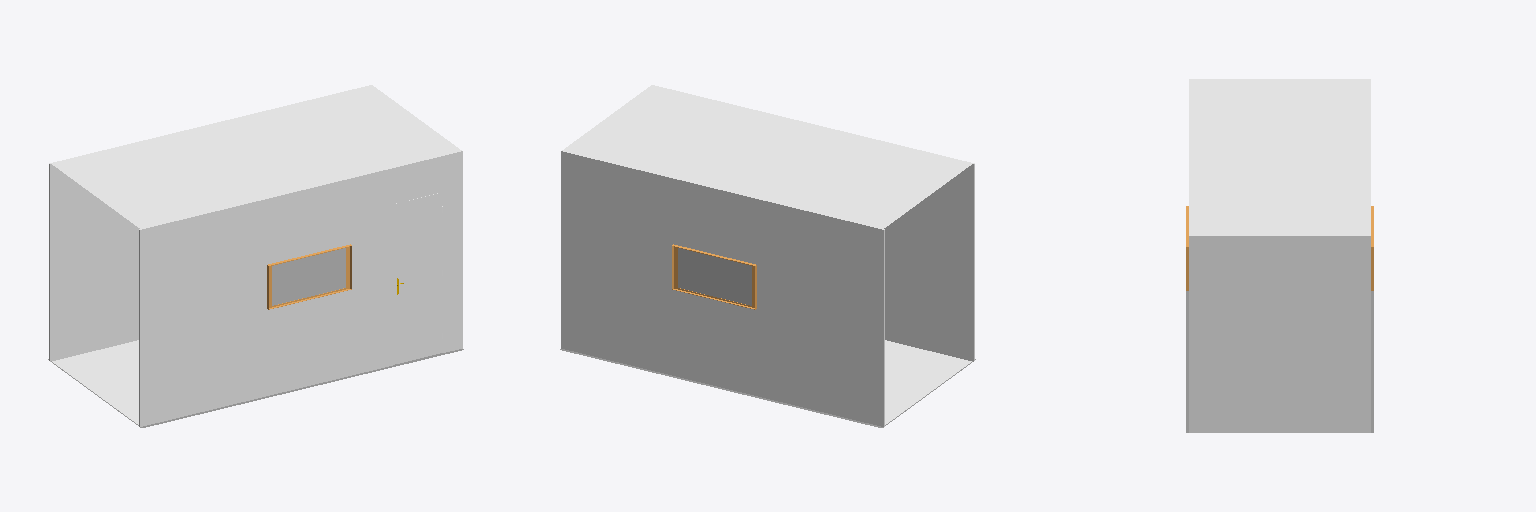
Rendered from anhaenger_aufbau_teil1.obj.
The picture shows the model from 3 angles: view 1: azimuth 30°, elevation 25°; view 2: azimuth 150°, elevation 25°; view 3: azimuth 270°, elevation 25°; orthographic projection.
Parts seen in each view (by area): view 1: wall_3_16, room_4_21, wall_1_5, sweethome3d_opening_on_hinge_1_door_30, room_4_20, sweethome3d_window_pane_36, frame_23, ground_1; view 2: wall_1_4, room_4_21, wall_3_17, room_4_20, sweethome3d_window_pane_39, ground_1; view 3: wall_2_10, room_4_21, ground_1.
Part boxes in pixels (bbox=[...]): wall_3_16: bbox=[139, 151, 462, 426]; room_4_21: bbox=[52, 86, 458, 228]; wall_1_5: bbox=[50, 164, 139, 361]; sweethome3d_opening_on_hinge_1_door_30: bbox=[395, 193, 441, 363]; room_4_20: bbox=[52, 340, 138, 424]; sweethome3d_window_pane_36: bbox=[272, 248, 345, 305]; frame_23: bbox=[393, 188, 444, 364]; ground_1: bbox=[48, 349, 463, 427]; wall_1_4: bbox=[561, 151, 884, 426]; room_4_21: bbox=[565, 86, 971, 228]; wall_3_17: bbox=[884, 164, 973, 361]; room_4_20: bbox=[885, 340, 971, 424]; sweethome3d_window_pane_39: bbox=[678, 248, 751, 305]; ground_1: bbox=[560, 349, 975, 427]; wall_2_10: bbox=[1189, 236, 1370, 432]; room_4_21: bbox=[1192, 79, 1367, 234]; ground_1: bbox=[1186, 291, 1373, 432].
Bounding box in the file's own units: 308 × 180 × 156.